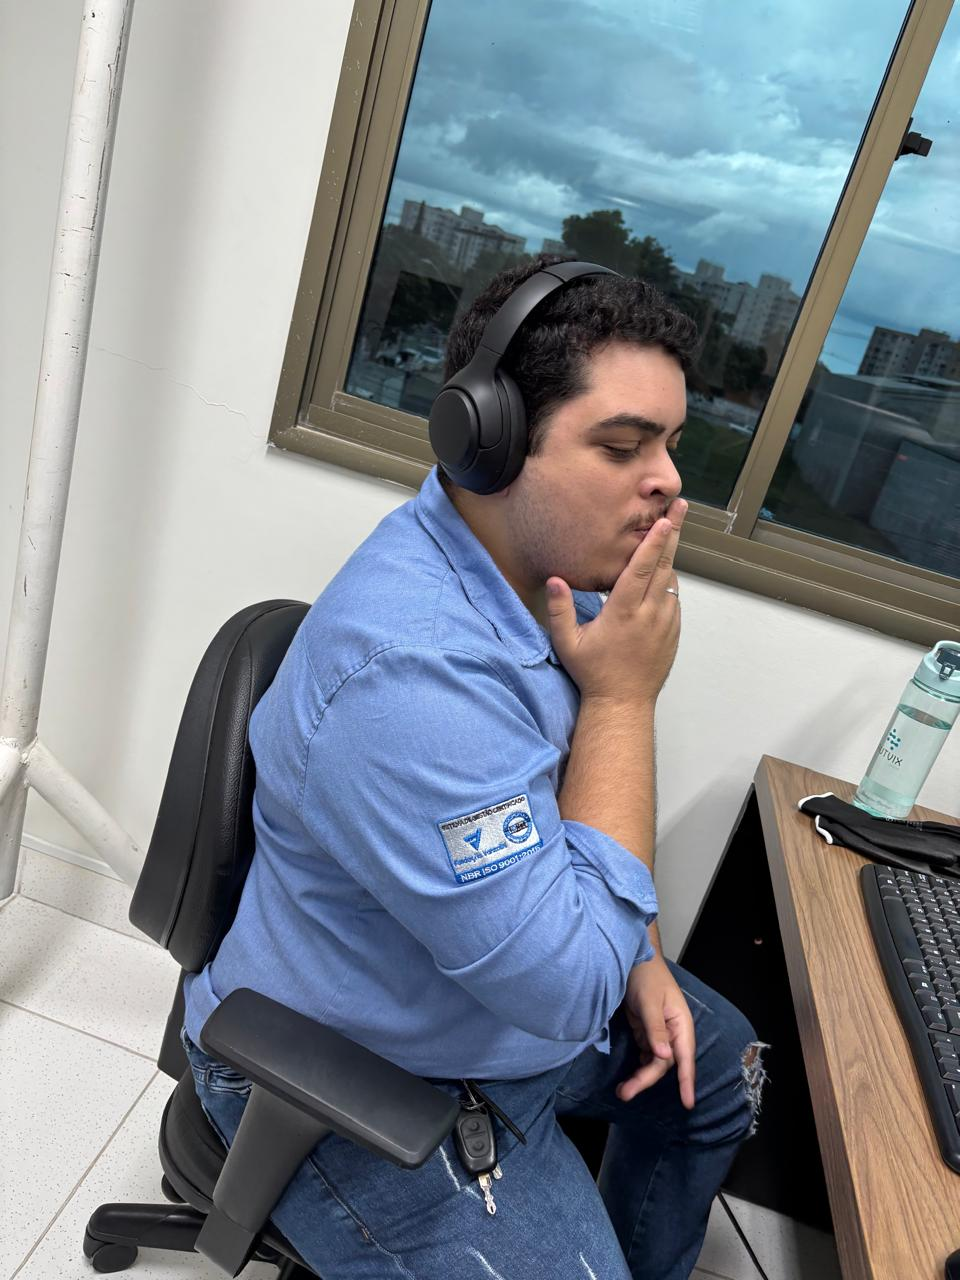no-gloves: (548, 505, 687, 708), (621, 959, 708, 1113)
